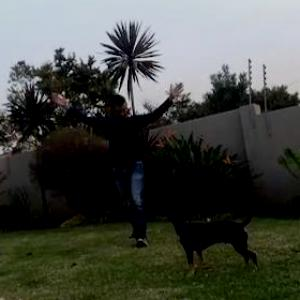takeoff: (46, 77, 183, 235)
